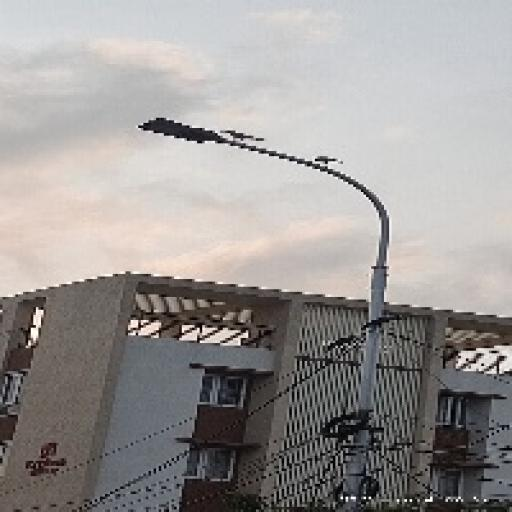Not Working: (128, 109, 254, 157)
